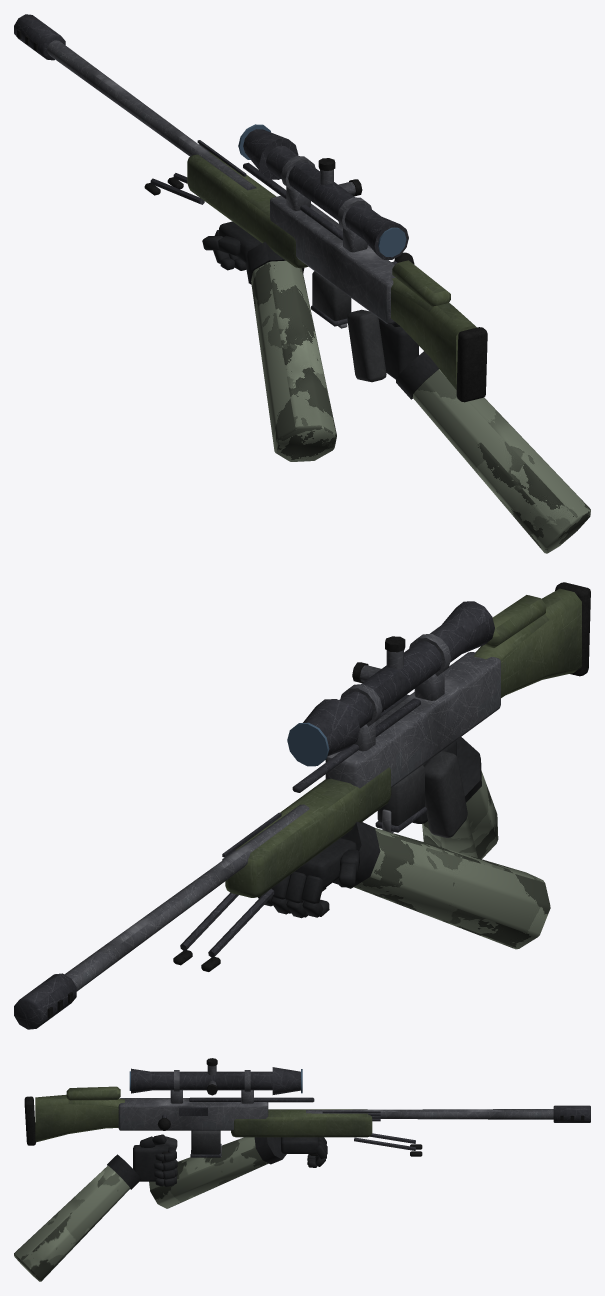
Rendered from sniper_fp.glb.
The picture shows the model from 3 angles, top to bottom: view 1: azimuth 30°, elevation 25°; view 2: azimuth 150°, elevation 25°; view 3: azimuth 270°, elevation 25°; orthographic projection. The views are drawn at different scales.
Parts seen in each view (by area): view 1: body, arms, mag; view 2: body, arms, mag; view 3: body, arms, mag.
Boxes of the visible parts, x1,y1,x2,y2 form: body: (14, 14, 487, 402); arms: (202, 221, 590, 553); mag: (311, 271, 351, 326); body: (14, 582, 590, 1029); arms: (258, 737, 550, 949); mag: (375, 765, 426, 832); body: (24, 1058, 590, 1157); arms: (14, 1134, 327, 1281); mag: (191, 1130, 220, 1157).
Bounding box in the file's own units: 0.3623 × 0.5106 × 1.39.
Materials: 9 (8 with a texture image).
